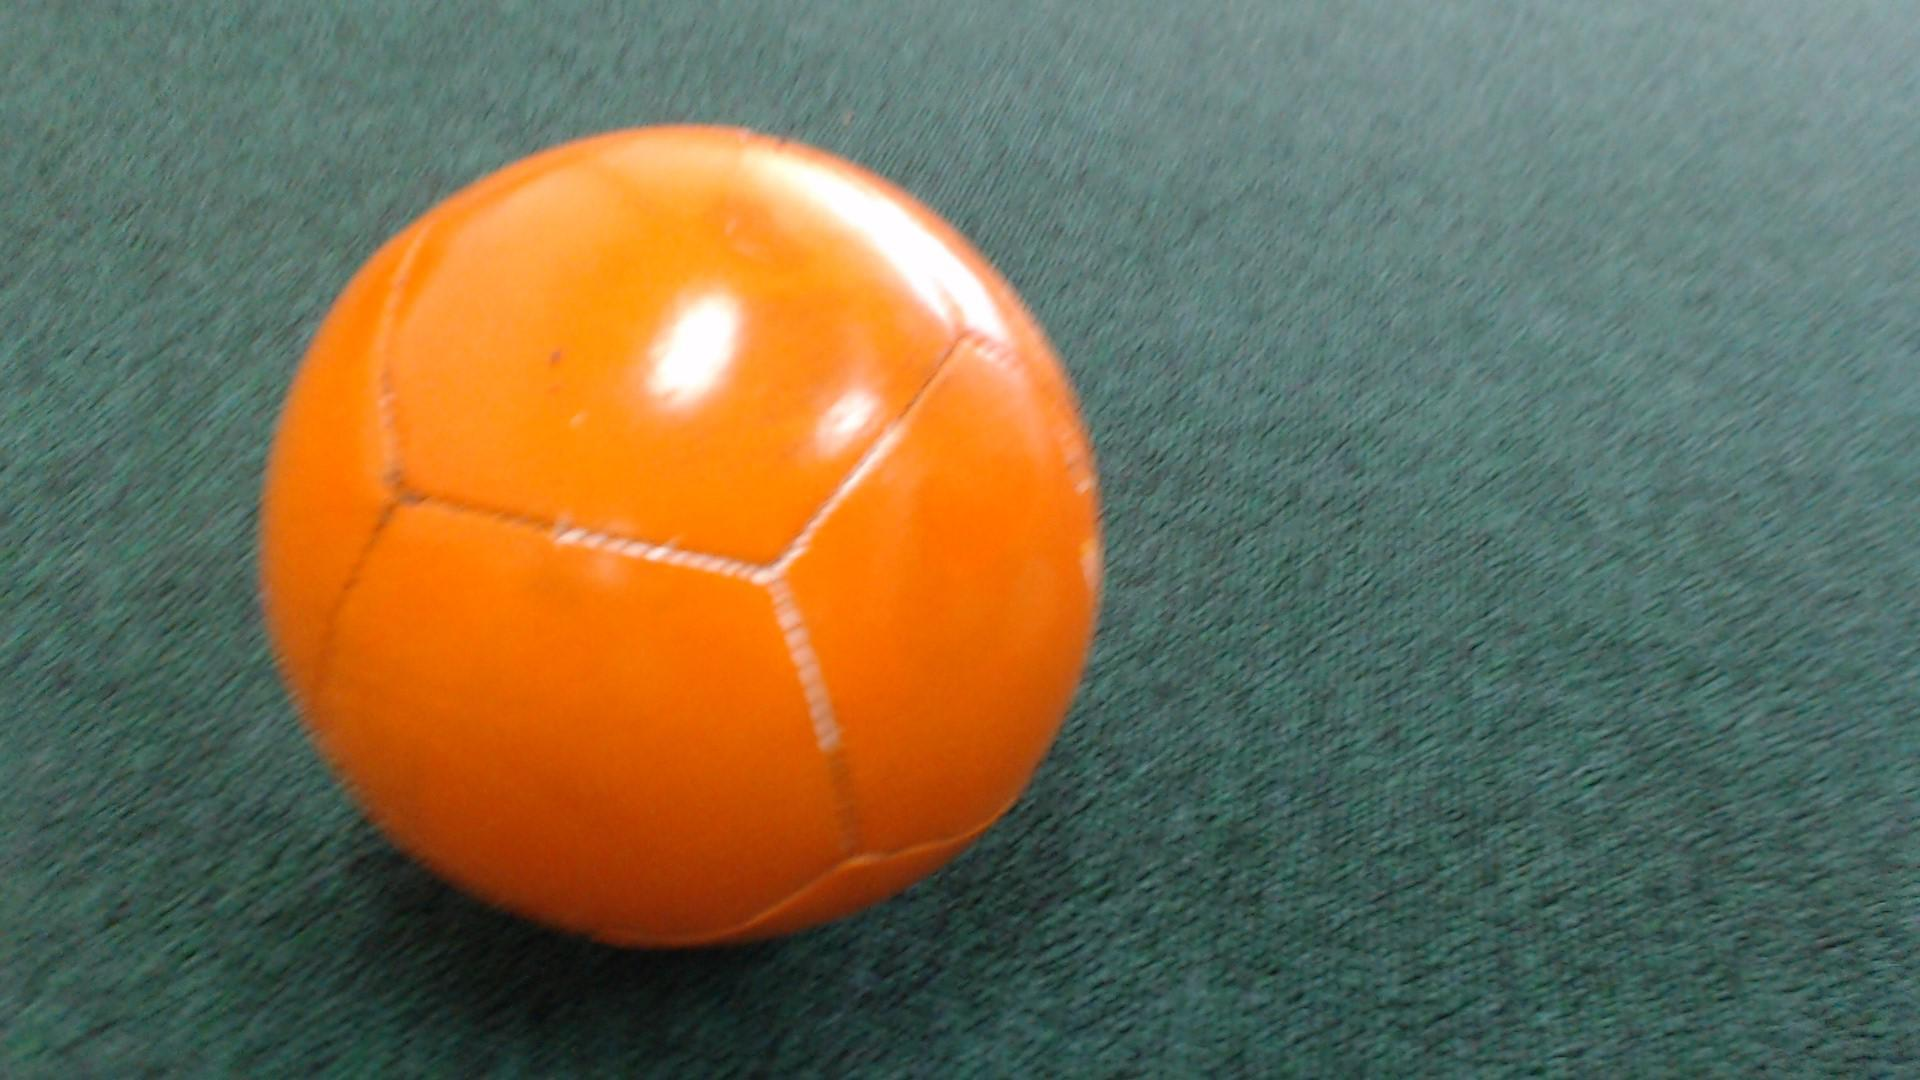bola: (202, 108, 1159, 972)
